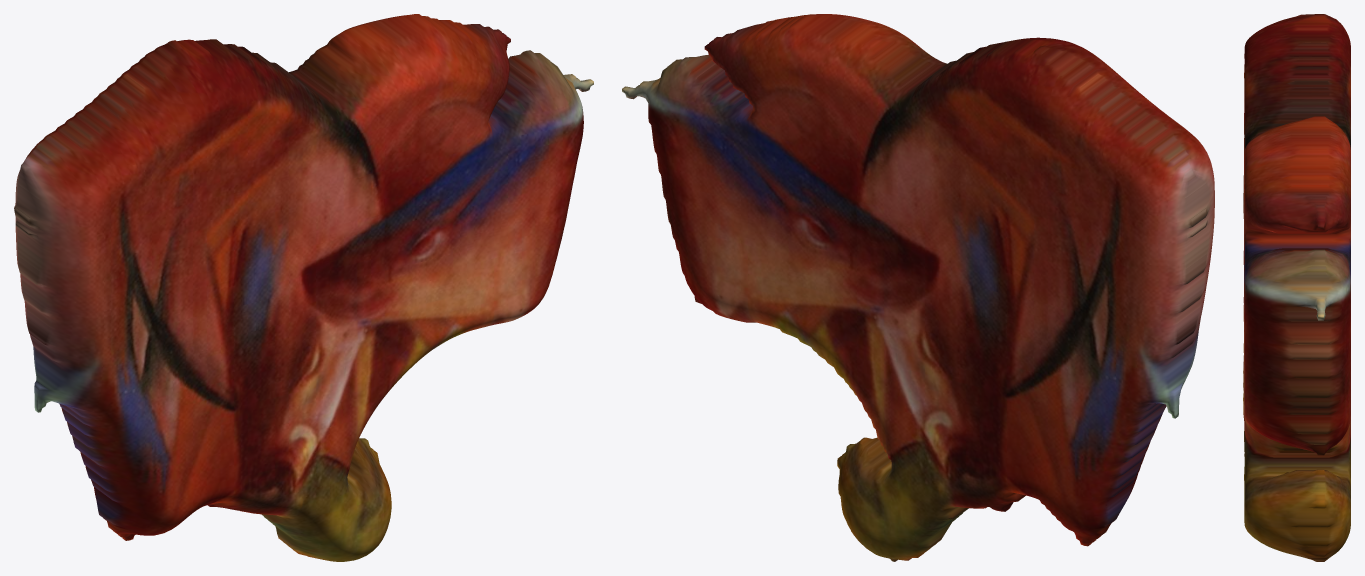
File: marc-boar.glb
The picture shows the model from 3 angles, left to right: view 1: azimuth 30°, elevation 25°; view 2: azimuth 150°, elevation 25°; view 3: azimuth 270°, elevation 25°; orthographic projection. The views are drawn at different scales.
Parts seen in each view (by area): view 1: marc-boar; view 2: marc-boar; view 3: marc-boar.
Boxes of the visible parts, x1,y1,x2,y2 form: marc-boar: [14, 14, 593, 561]; marc-boar: [622, 14, 1214, 561]; marc-boar: [1243, 14, 1350, 561].
Bounding box in the file's own units: 1.78 × 1.62 × 0.3319.
Materials: 1 (1 with a texture image).
